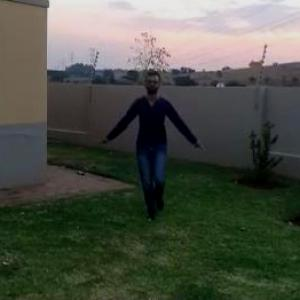land: (104, 74, 200, 211)
